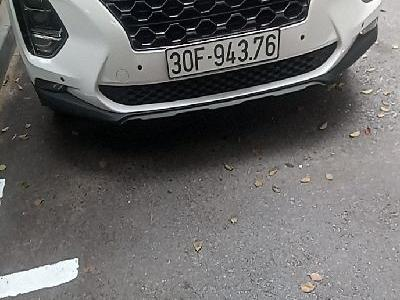car: (165, 27, 281, 80)
